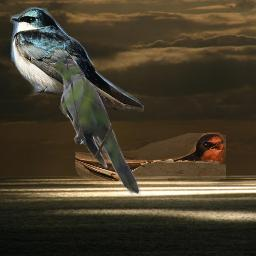Cuckoo: (47, 58, 144, 196)
Swallow: (10, 7, 144, 112), (75, 132, 226, 187)
